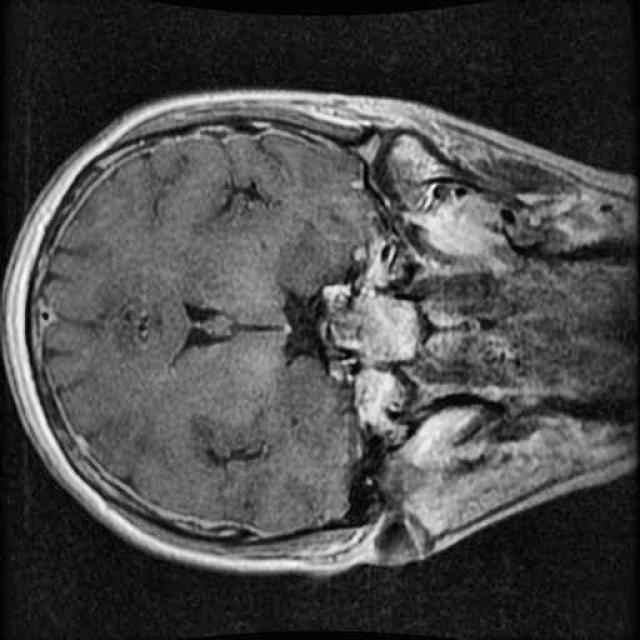Tumor: (311, 278, 378, 376)
